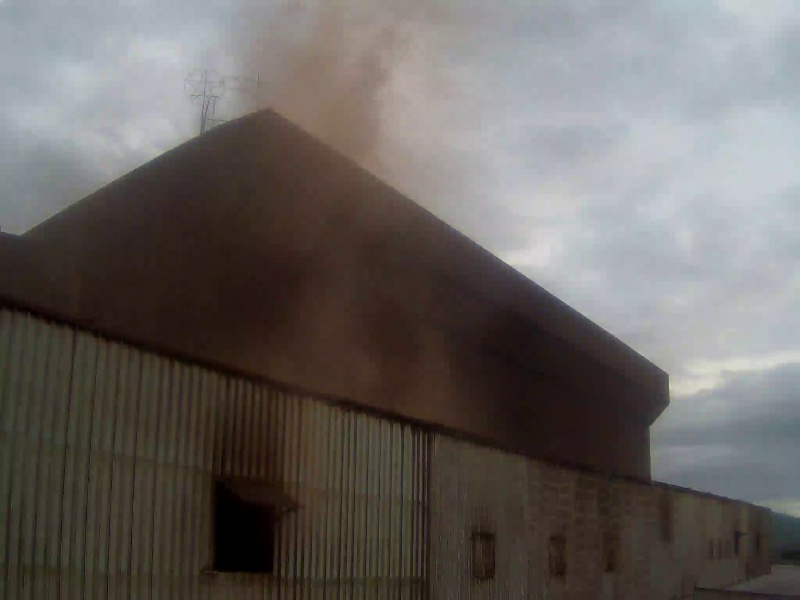bom: (2, 14, 240, 179), (630, 298, 791, 482)
pessimo: (218, 4, 668, 488)
